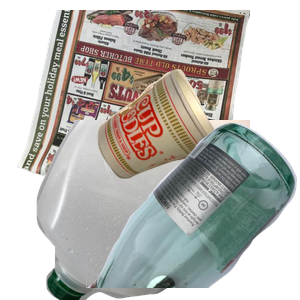glass: (86, 120, 300, 300)
paper: (14, 10, 254, 190)
plastic: (34, 120, 274, 300)
trash: (95, 67, 300, 238)
